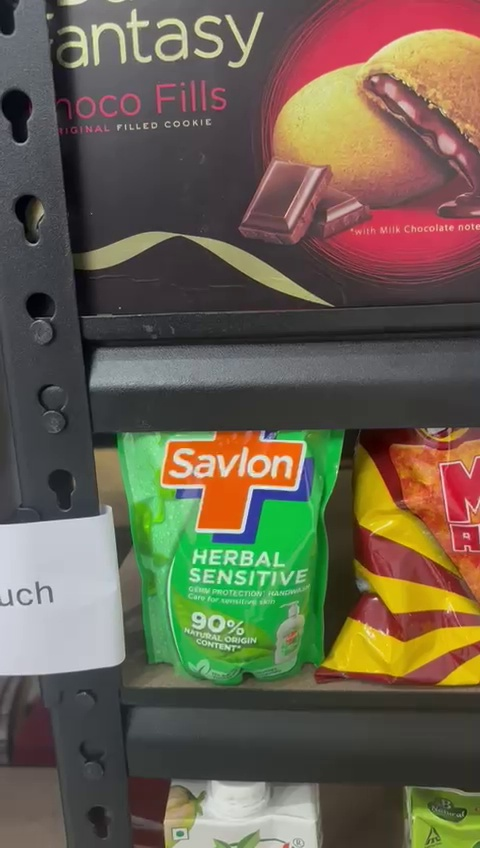Savlon Herbal: (112, 435, 328, 680)
